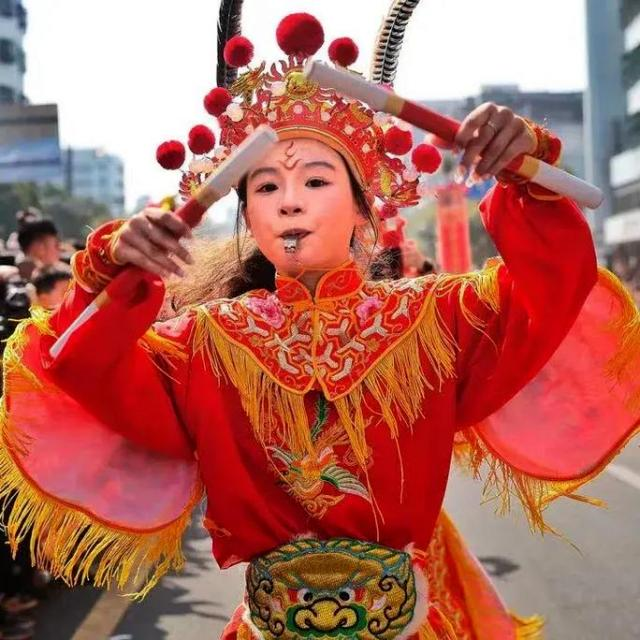Reeves-s Pheasant: (360, 0, 424, 90)
